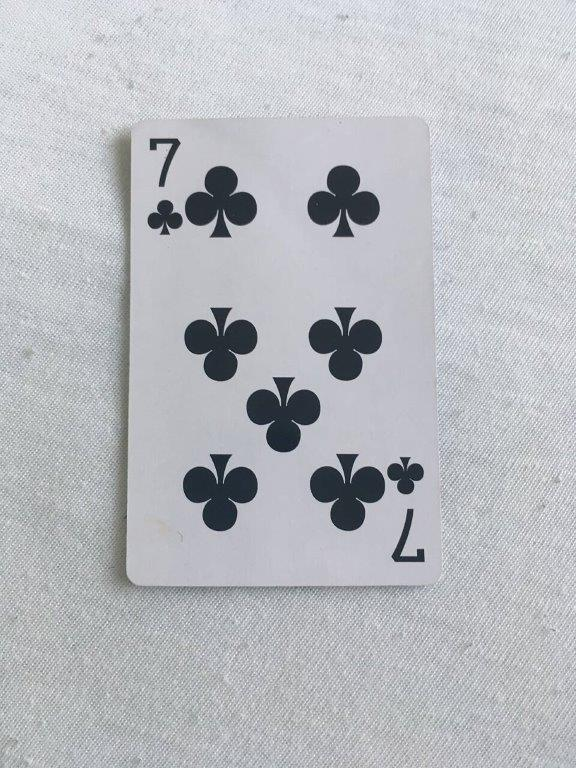7C: (122, 113, 448, 590)
